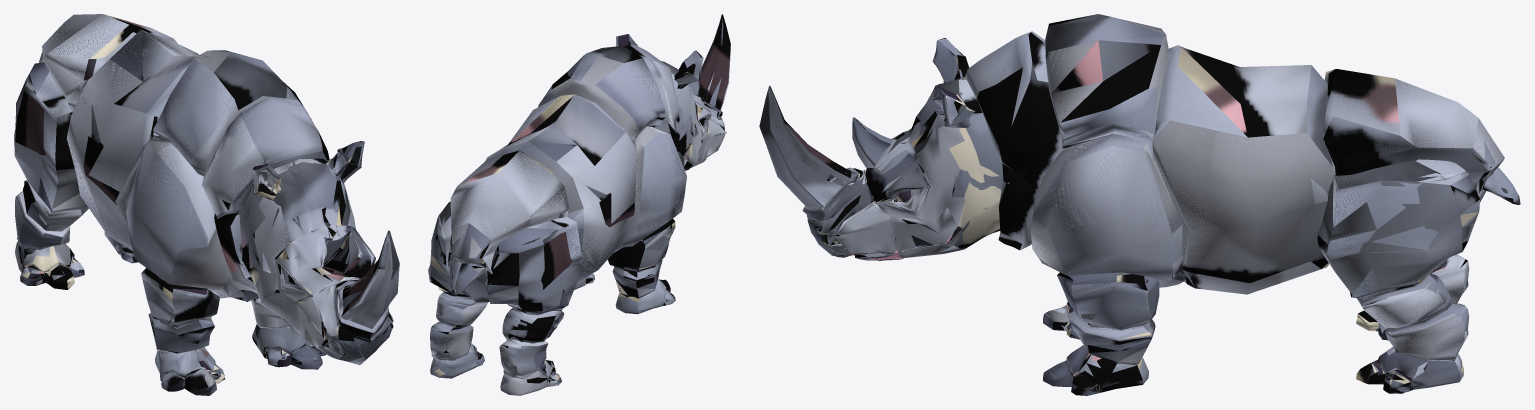
Rendered from creature_rhino.fbx.
3 views of the same model, side by side, from view 1: azimuth 30°, elevation 25°; view 2: azimuth 150°, elevation 25°; view 3: azimuth 270°, elevation 25° (orthographic). The views are drawn at different scales.
Parts seen in each view (by area): view 1: creature_rhino_body, creature_rhino_head, creature_rhino_leg_fr, creature_rhino_leg_br, creature_rhino_leg_fl, creature_rhino_leg_bl; view 2: creature_rhino_body, creature_rhino_leg_br, creature_rhino_head, creature_rhino_leg_bl, creature_rhino_tail, creature_rhino_leg_fr; view 3: creature_rhino_body, creature_rhino_head, creature_rhino_leg_bl, creature_rhino_leg_fl, creature_rhino_tail, creature_rhino_leg_br, creature_rhino_leg_fr.
Part boxes in pixels (x1,y1,x2,y2): creature_rhino_body: (14, 14, 352, 296); creature_rhino_head: (252, 141, 399, 365); creature_rhino_leg_fr: (141, 269, 257, 395); creature_rhino_leg_br: (15, 177, 153, 326); creature_rhino_leg_fl: (251, 296, 325, 369); creature_rhino_leg_bl: (104, 231, 138, 263); creature_rhino_body: (428, 44, 697, 311); creature_rhino_leg_br: (499, 239, 654, 395); creature_rhino_head: (616, 14, 730, 170); creature_rhino_leg_bl: (430, 287, 487, 378); creature_rhino_tail: (448, 223, 492, 295); creature_rhino_leg_fr: (616, 222, 675, 313); creature_rhino_body: (937, 14, 1487, 294); creature_rhino_head: (759, 38, 965, 260); creature_rhino_leg_bl: (1121, 261, 1469, 393); creature_rhino_leg_fl: (1043, 272, 1151, 395); creature_rhino_tail: (1471, 118, 1520, 204); creature_rhino_leg_br: (1356, 254, 1469, 340); creature_rhino_leg_fr: (1043, 302, 1079, 339).
Bounding box in the file's own units: 502 × 782 × 1611.
Materials: 1 (1 with a texture image).
